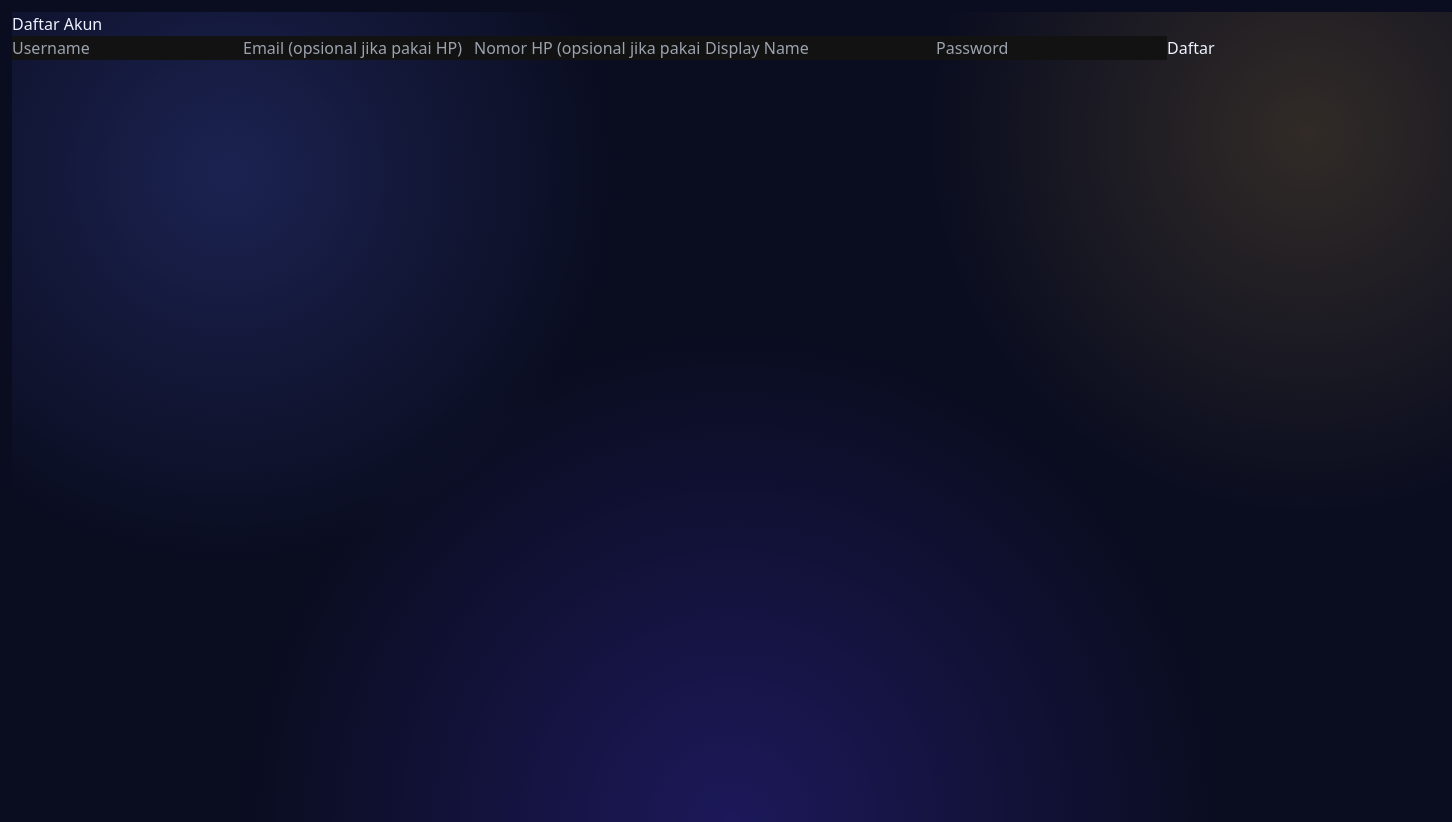
RegisterForm › menampilkan error jika email dan HP kosong
The image size is (1452, 822).
Type "mizukitest" into the field with placeholder "Username" at (128, 48), box [12,36,243,60]
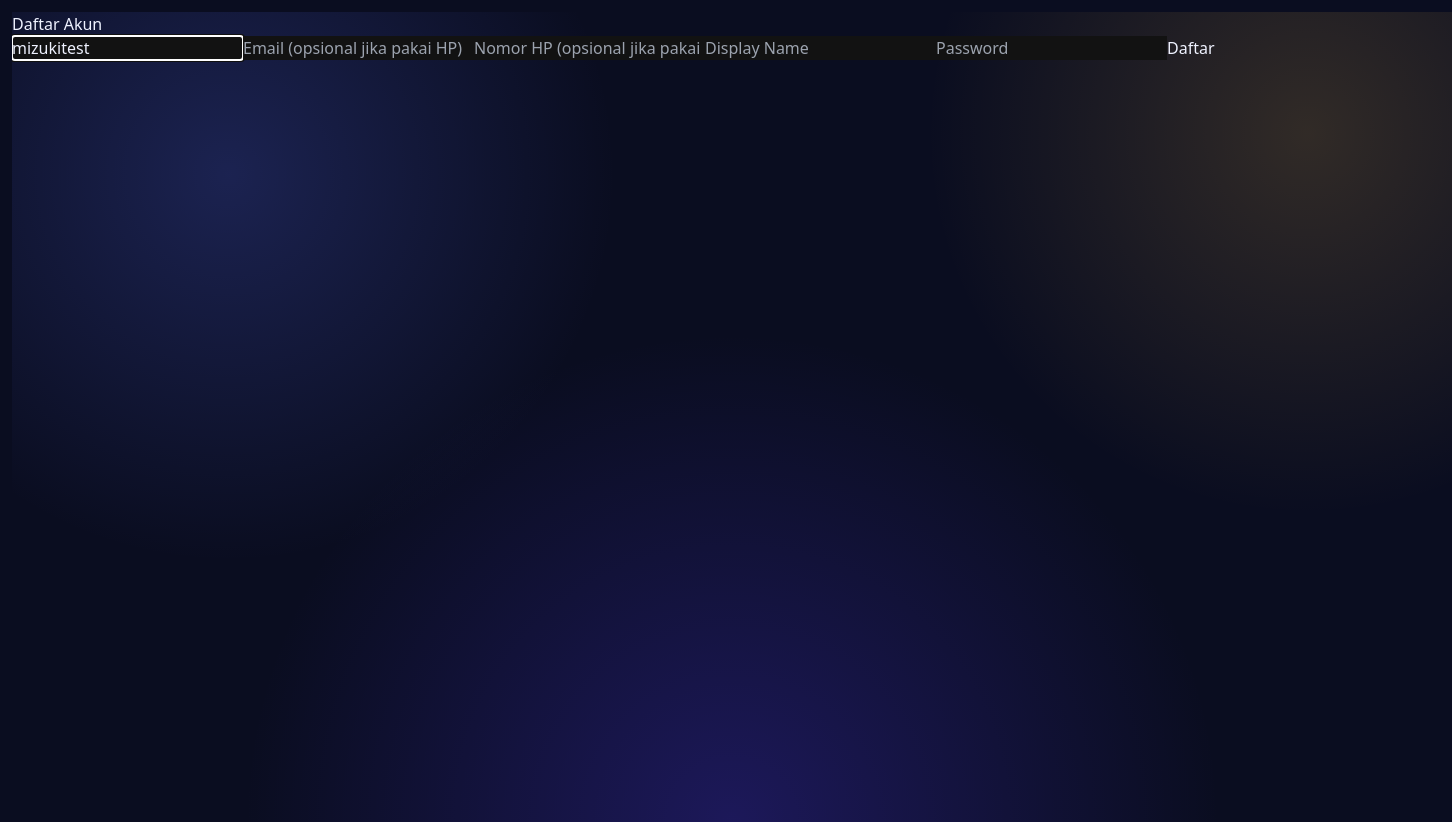
Click the button "Daftar" at (1191, 48), box [1167,36,1214,60]
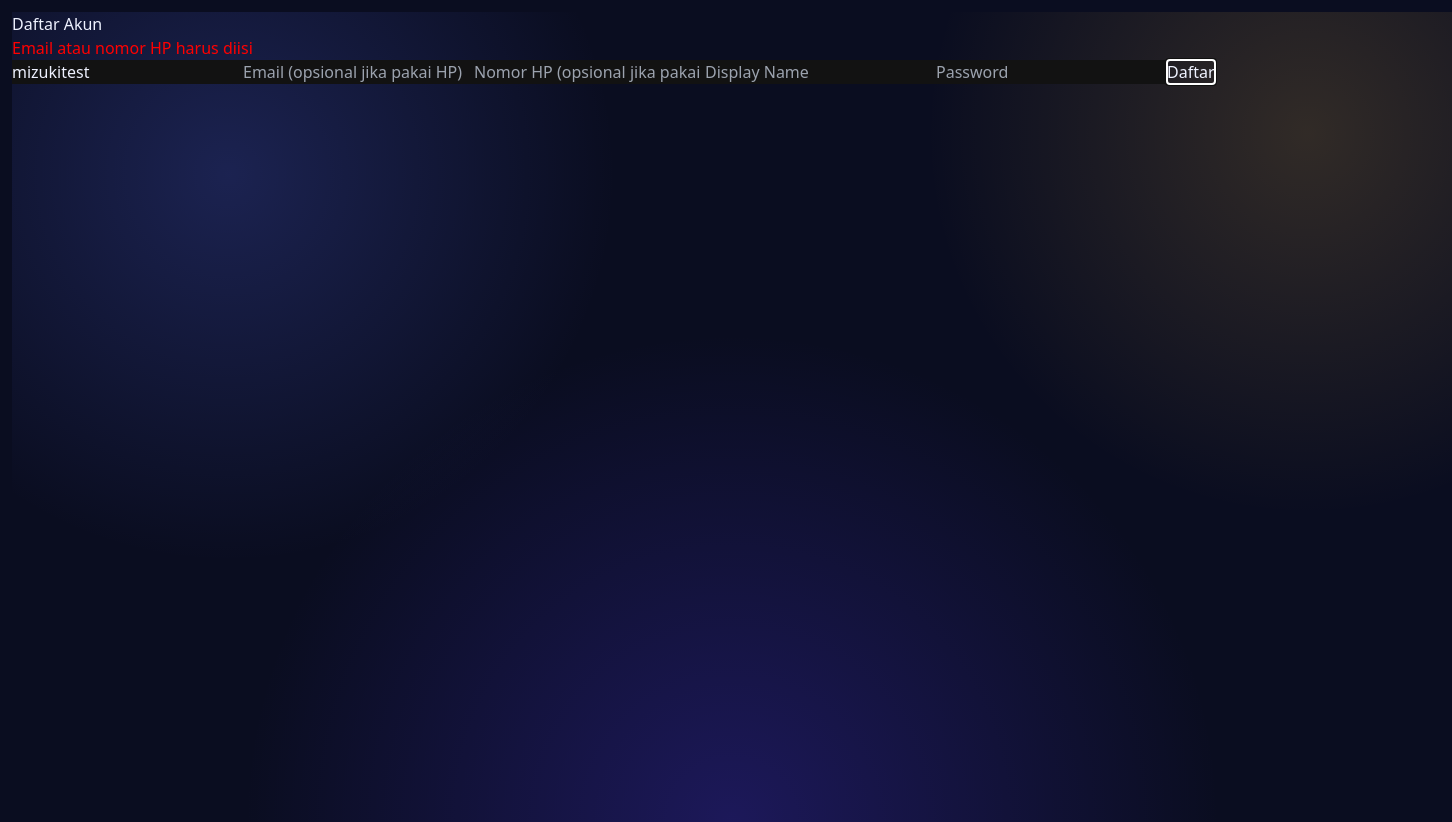
Expected: the text "Email atau nomor HP harus diisi" is shown, [12,37,253,59]
